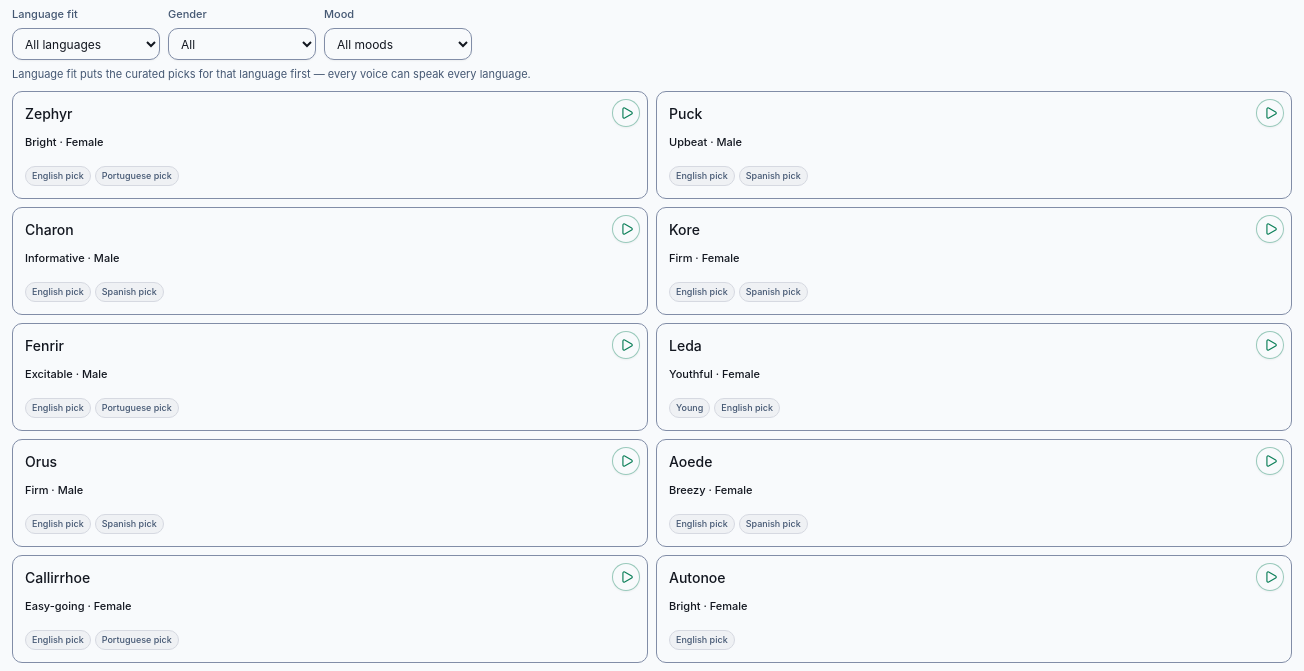
VoicePickerGrid — preview never selects; unmount stops › clicking a card's play button plays that voice WITHOUT selecting it
Click the button named "Hear Kore". click: (1270, 228)
box: [1256, 214, 1284, 242]
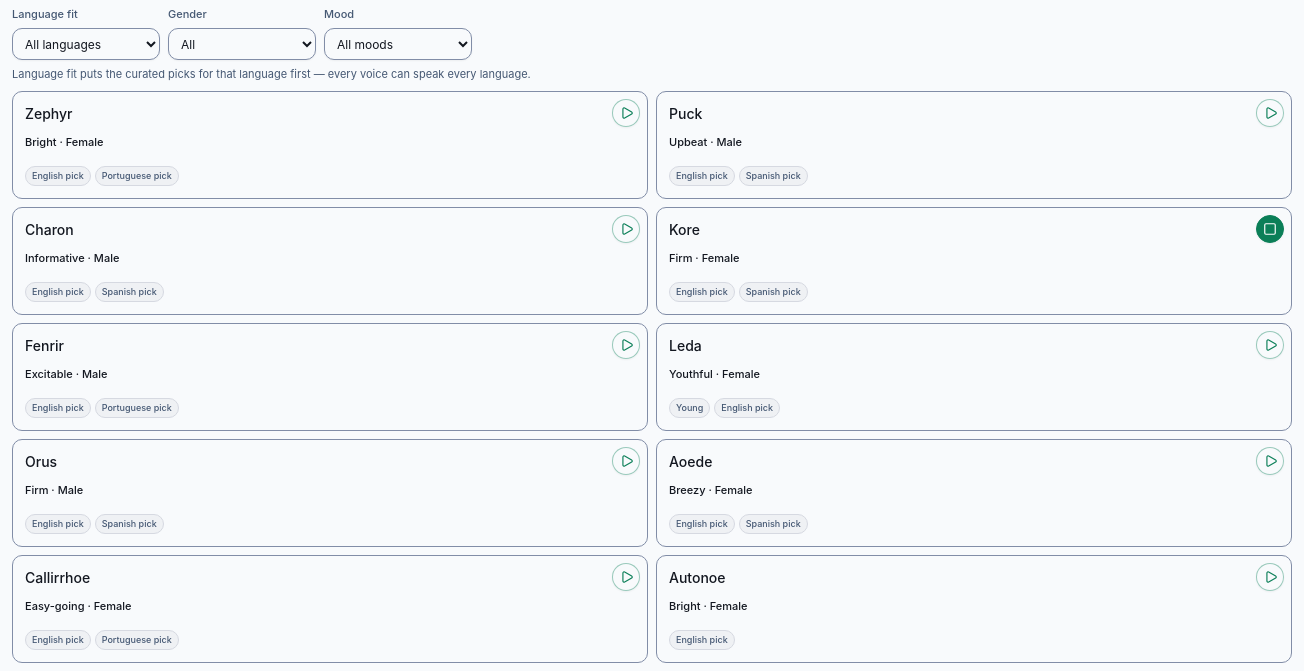
expect the text "Kore" is shown: met, box [669, 220, 700, 240]
expect the button named "Stop Kore preview" is shown: met, box [1256, 214, 1284, 242]
